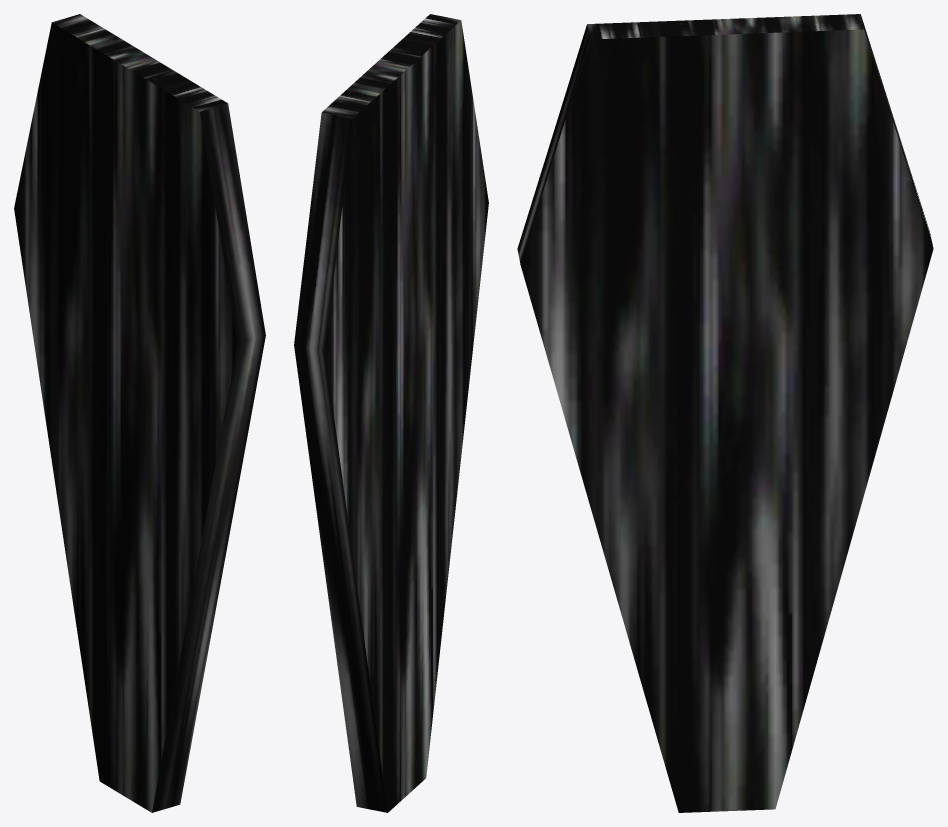
File: 0416_shibei_aerzhousi.glb
3 renders of one model, left to right at view 1: azimuth 30°, elevation 25°; view 2: azimuth 150°, elevation 25°; view 3: azimuth 270°, elevation 25°, orthographic. The views are drawn at different scales.
Bounding box in the file's own units: 0.1867 × 2.2 × 1.07.
1 material, 1 textured.
